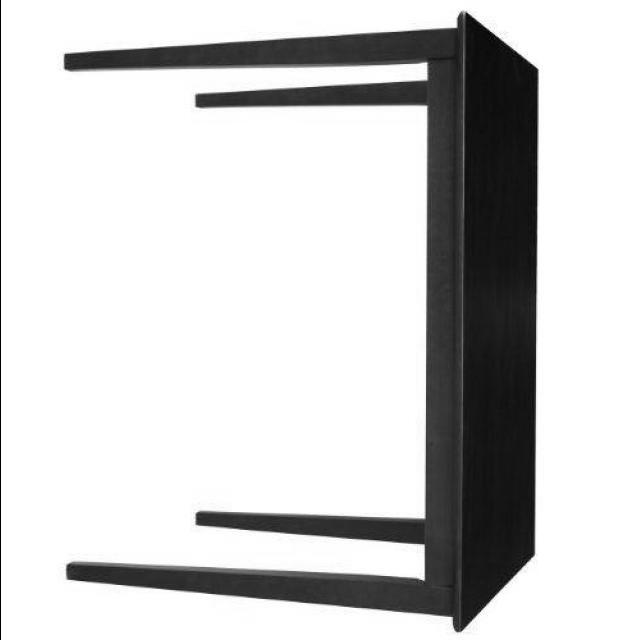table: (64, 13, 538, 630)
